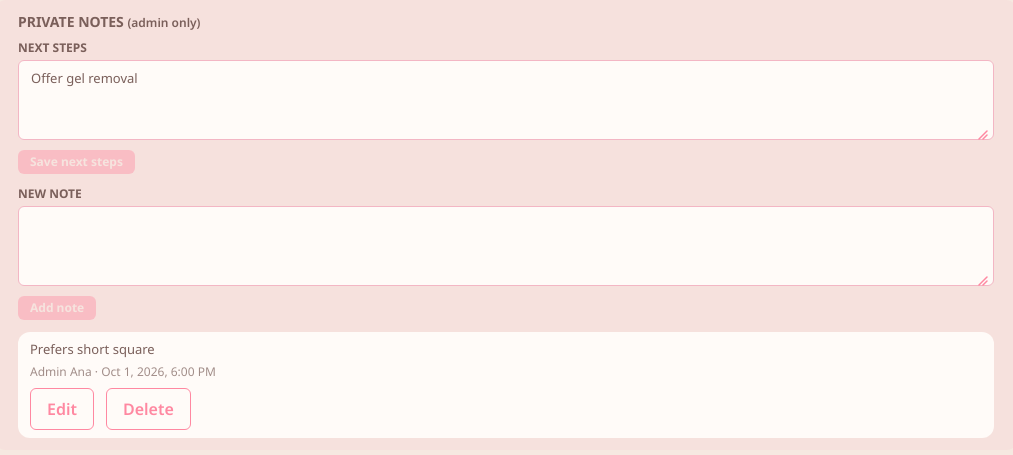
ClientNotesPanel › saves next steps only when they changed, trimmed
Expected: the button "Save next steps" is disabled, [18, 150, 135, 174]
Replace the text in the text box labelled "Next steps" with "  Book a refill " at x=506, y=100, box [18, 60, 994, 140]
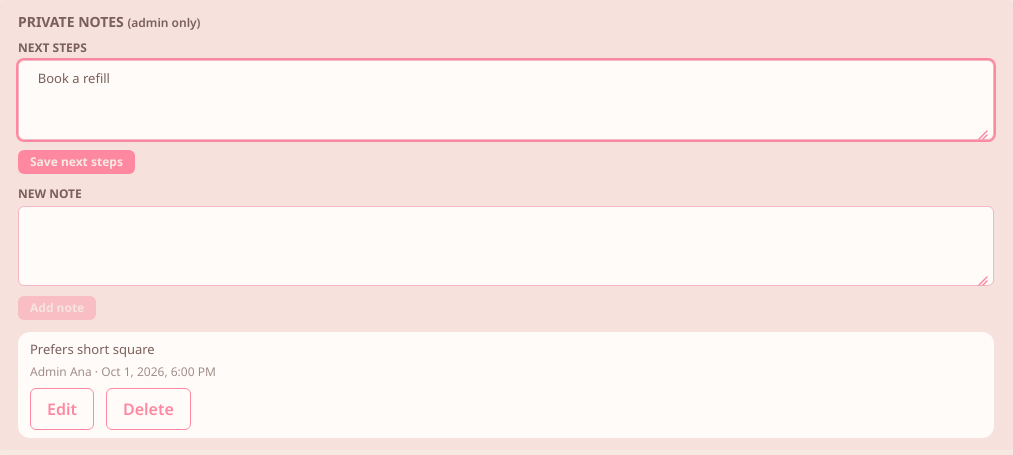
Click the button "Save next steps".
click(76, 162)  # box [18, 150, 135, 174]
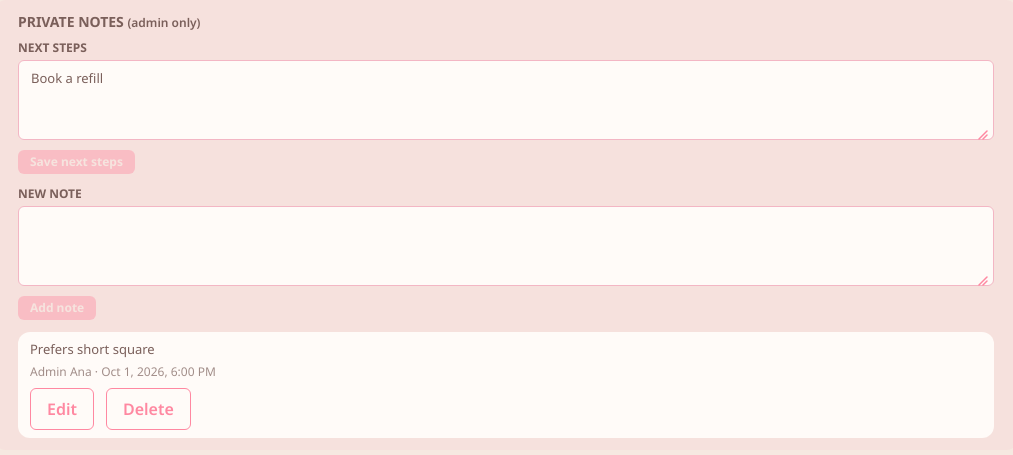
Expected: the button "Save next steps" is disabled, [18, 150, 135, 174]
